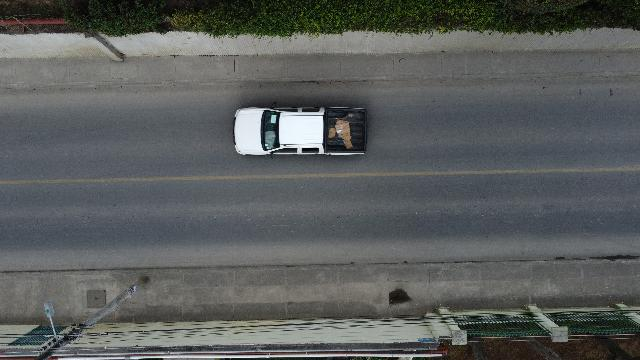Vehiculo: (232, 103, 368, 156)
